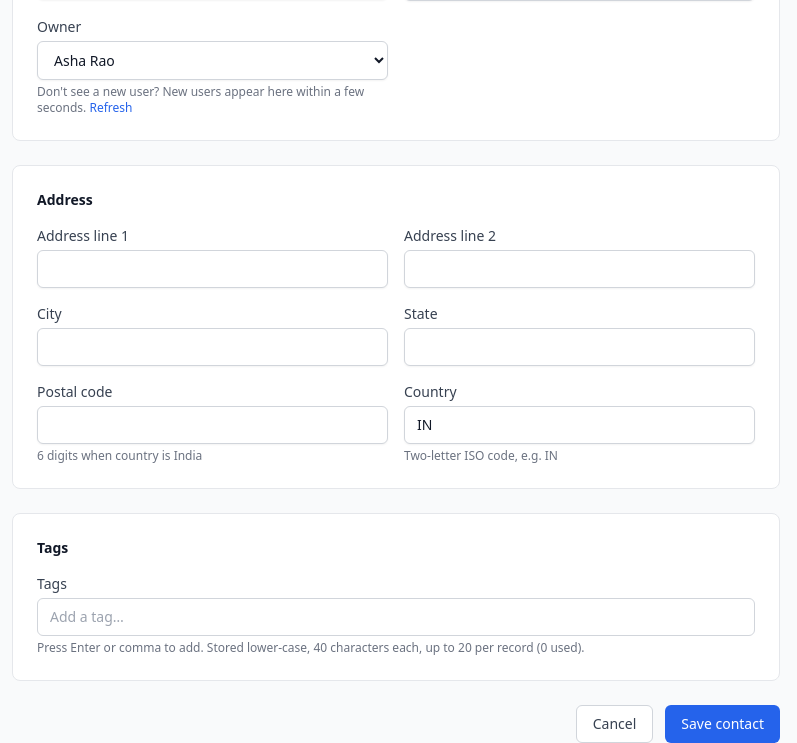
ContactFormPage — version conflict (CON-6 / AC-6) › shows a reload prompt when the record changed since it was loaded
(page scrolled)
What coordinates should you click on to do the following:
click the button "Save contact"
I would click on:
 (723, 724)
Its box is [665,705,780,742].
(page scrolled)
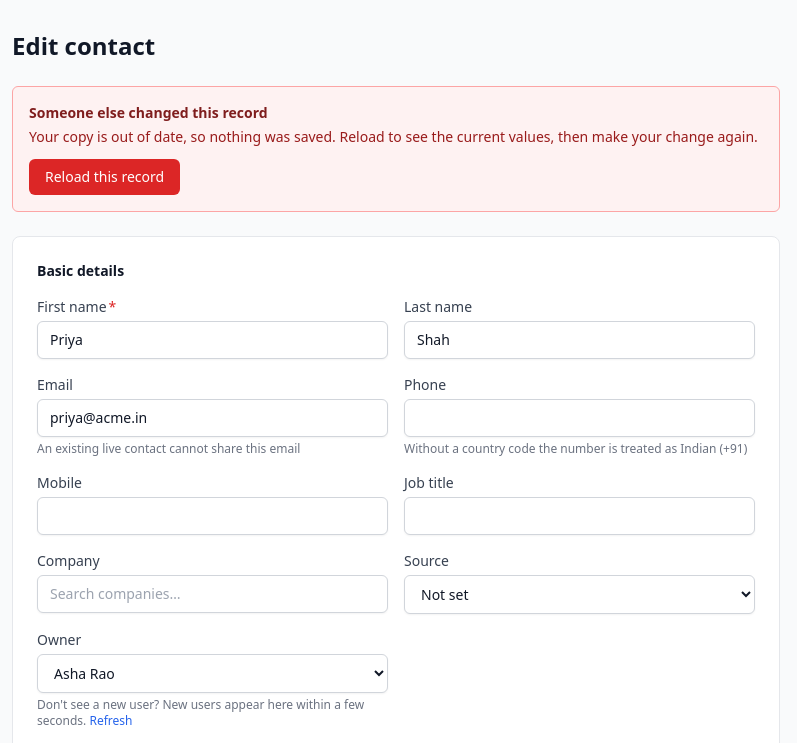
Expected: the heading "Someone else changed this record" is shown, [29,103,268,122]
Expected: the button "Reload this record" is shown, [29,159,180,195]
